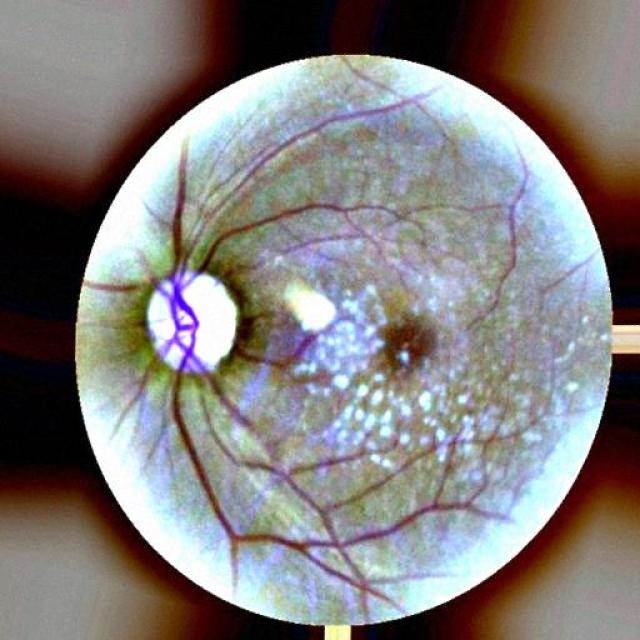Macula: (382, 318, 434, 366)
Nerves: (150, 140, 506, 611)
Optic Disk: (146, 271, 238, 374)
